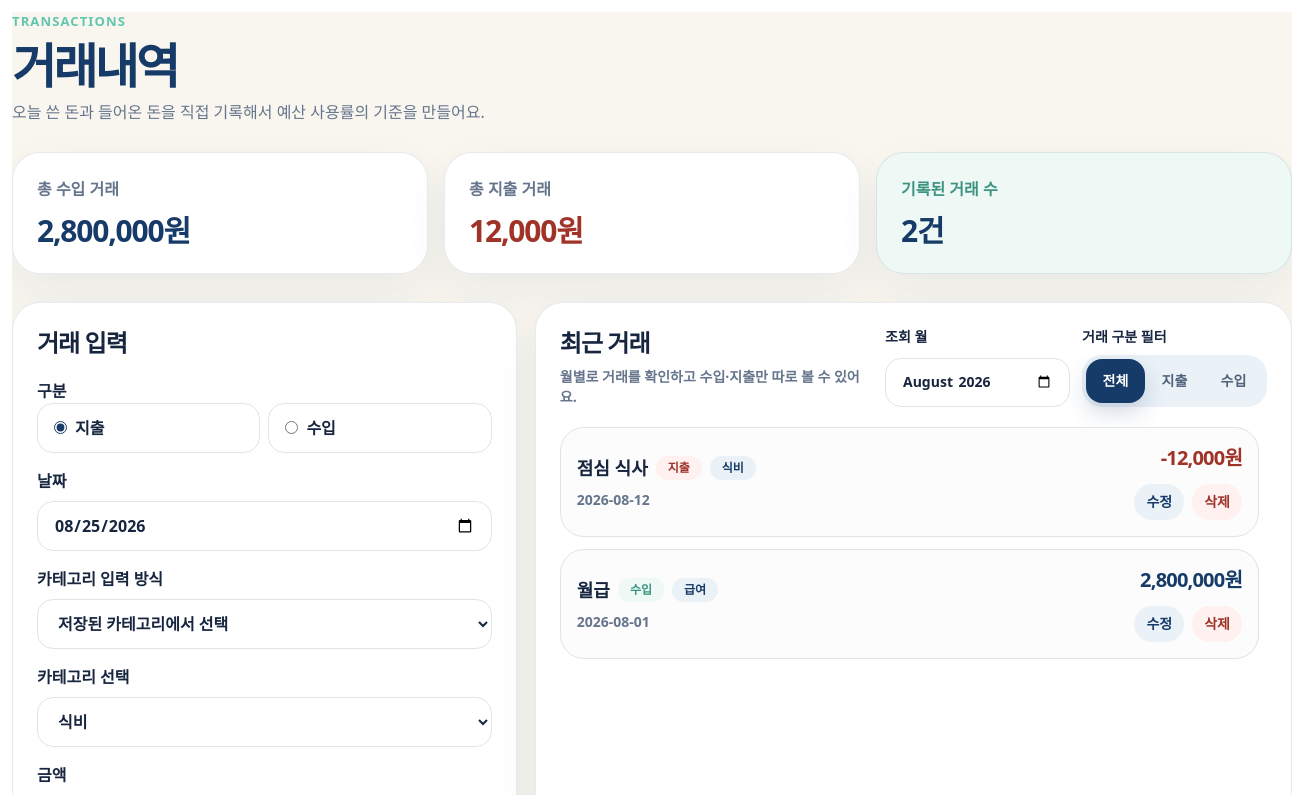
Test: TransactionsPage › filters the visible list by income or expense
This screenshot has width=1292, height=795.
Expected: the text "점심 식사" is shown, [577,454,648,482]
Expected: the text "월급" is shown, [577,576,610,604]
Step 1. Click the button "수입" → (1234, 380), box [1204,358,1263,402]
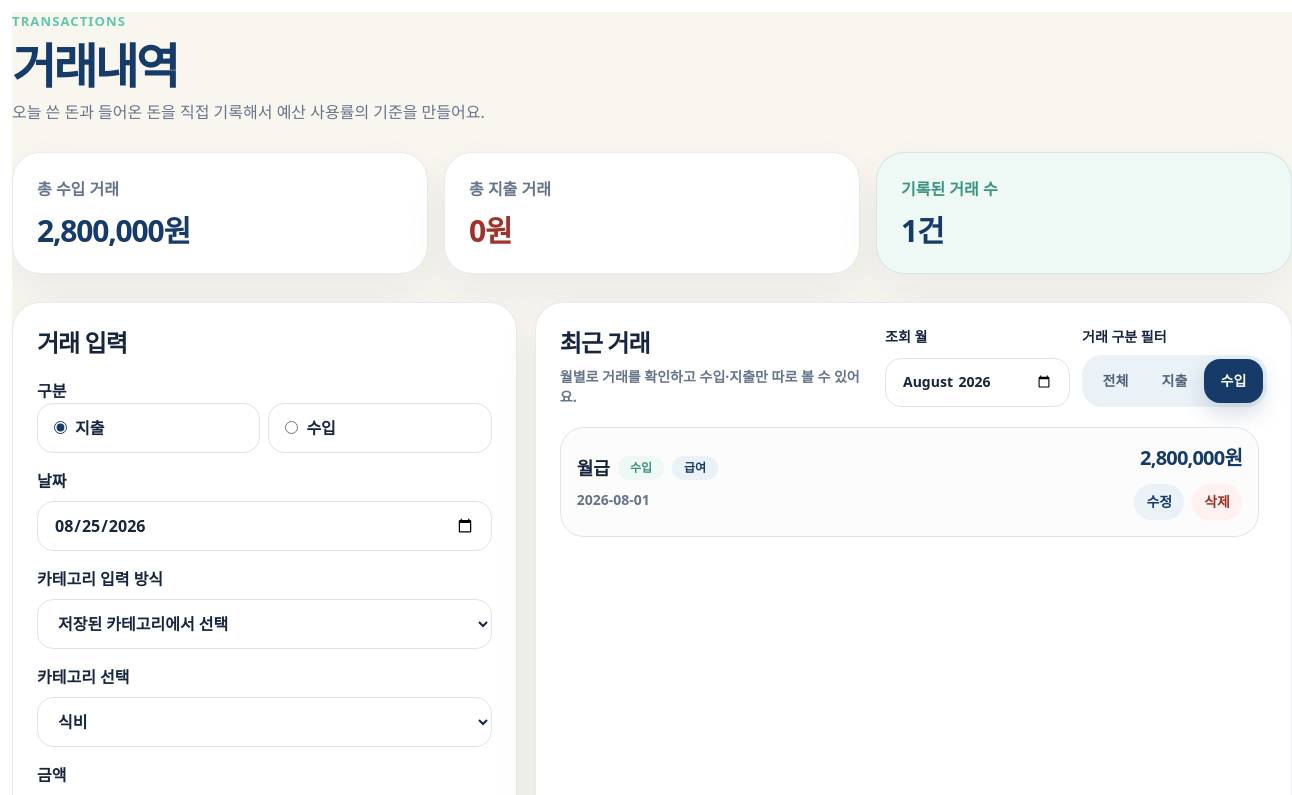
Expected: the text "월급" is shown, [577,454,610,482]
Expected: the text "점심 식사" is gone
Step 2. Click the button "전체" → (1116, 380), box [1086,358,1145,402]
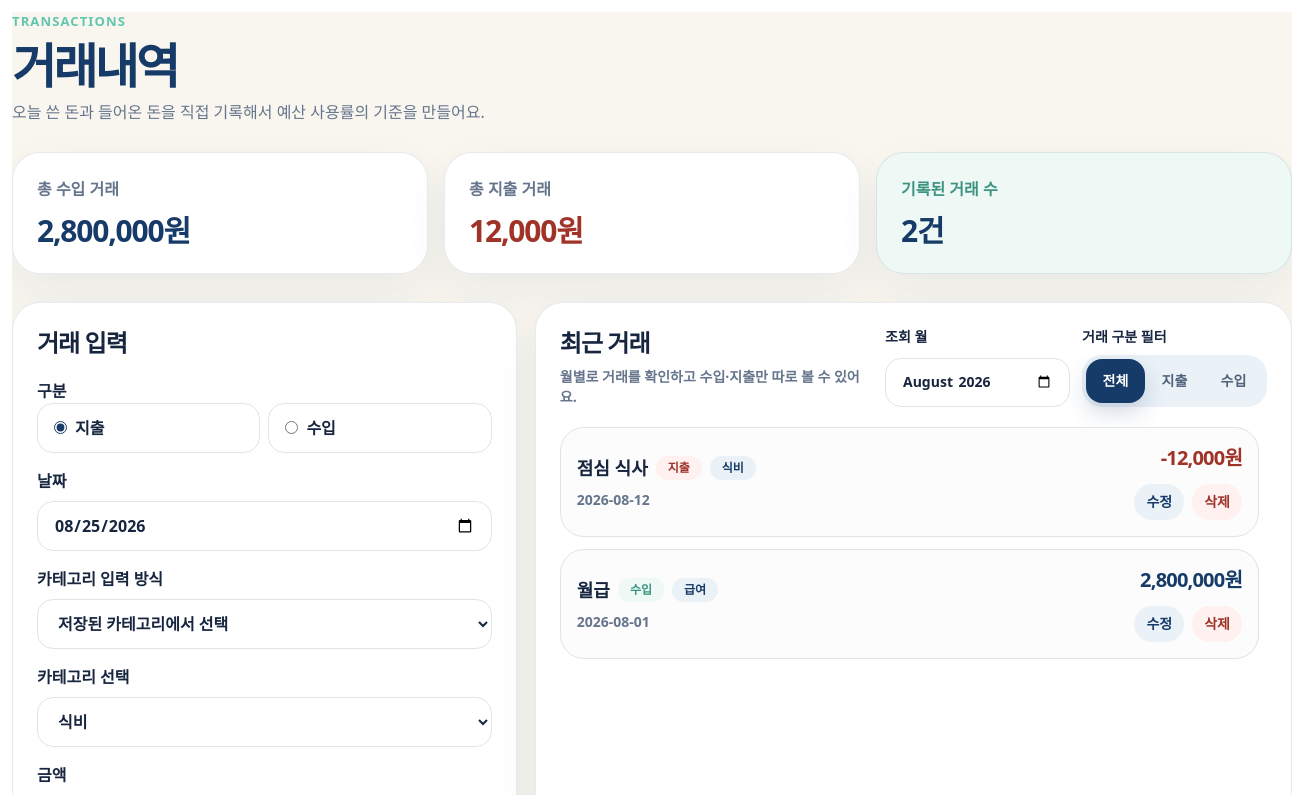
Expected: the text "월급" is shown, [577,576,610,604]
Expected: the text "점심 식사" is shown, [577,454,648,482]
